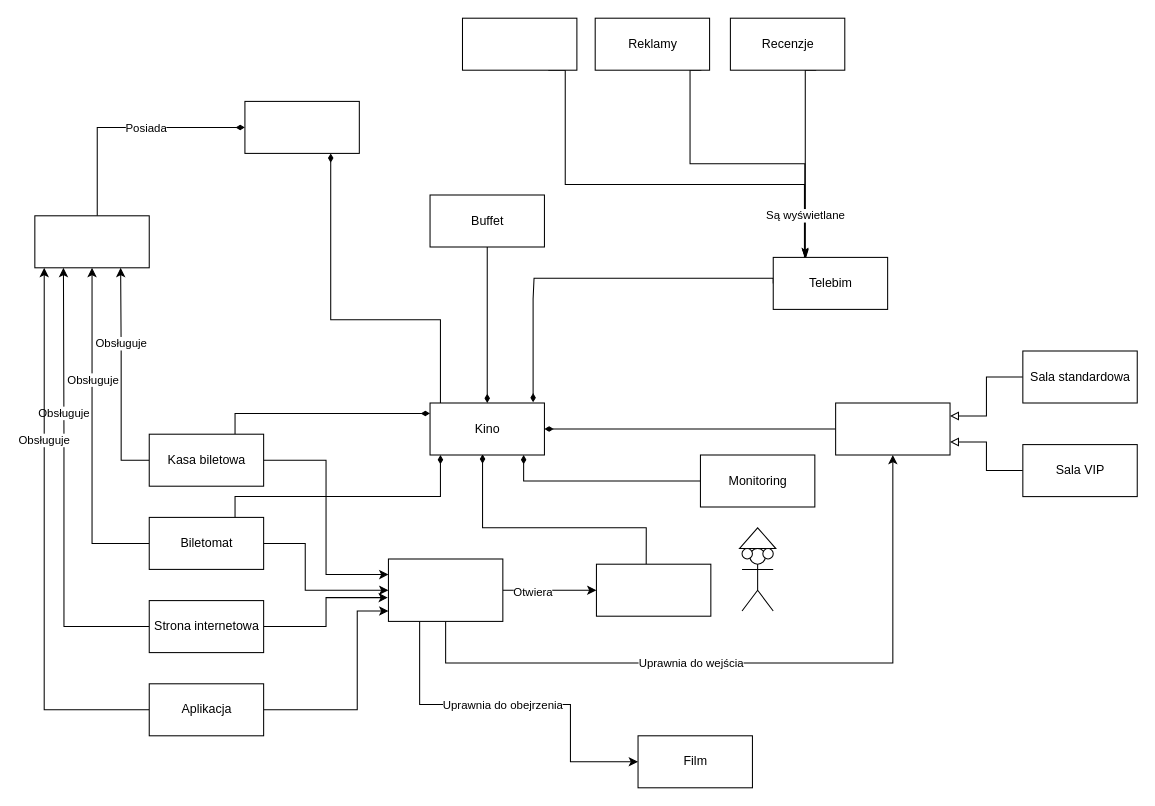
Some shapes in this 1155 by 806 pixel diagram are drawn without their labels. The box of each missing label's shape, as (x1, y1, x2, y2) in pixels:
Bilet: (387, 558, 503, 621)
Bramki wejsciowe: (595, 563, 711, 616)
cieć: (741, 548, 773, 611)
Sale kinowe: (835, 402, 950, 455)
Serwer: (34, 215, 149, 268)
Sieć kin: (244, 100, 359, 153)
Zwiastuny: (461, 17, 577, 70)
